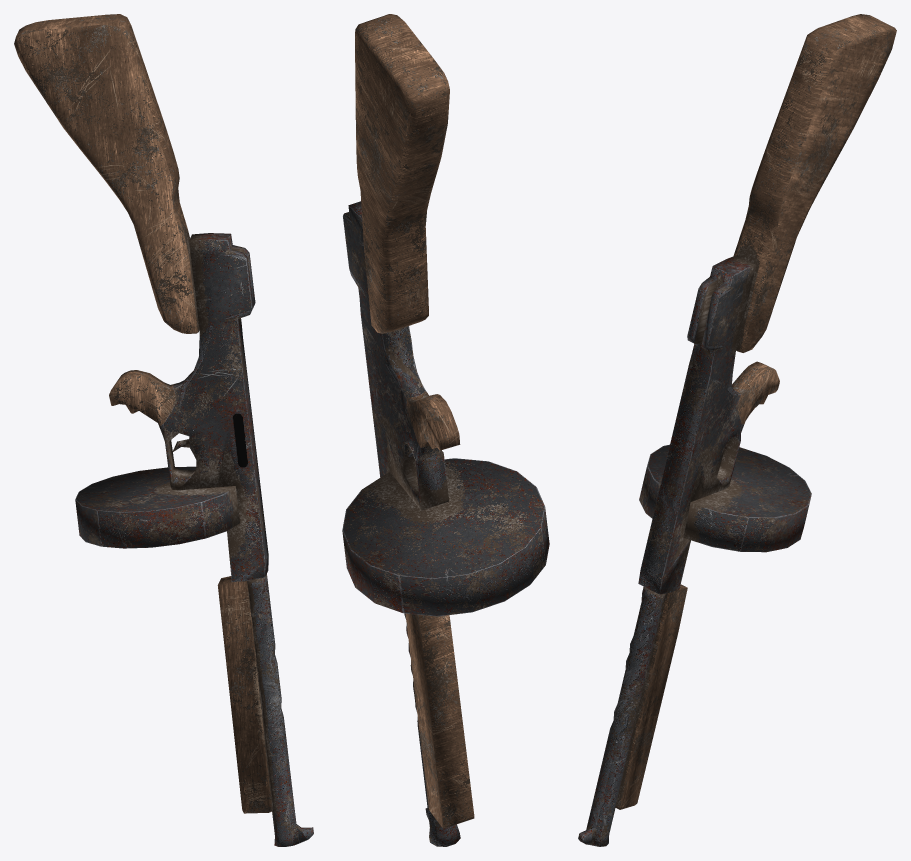
The model's file is Anim_idle_ametralladora_objetos.0041.obj.
3 views of the same model, side by side, from view 1: azimuth 30°, elevation 25°; view 2: azimuth 150°, elevation 25°; view 3: azimuth 270°, elevation 25° (orthographic). The views are drawn at different scales.
Parts seen in each view (by area): view 1: Ametralladora1; view 2: Ametralladora1; view 3: Ametralladora1.
Boxes of the visible parts, bbox=[...] form: Ametralladora1: bbox=[14, 14, 313, 846]; Ametralladora1: bbox=[342, 14, 549, 846]; Ametralladora1: bbox=[578, 14, 896, 846].
Bounding box in the file's own units: 1.28 × 5.84 × 2.17.
